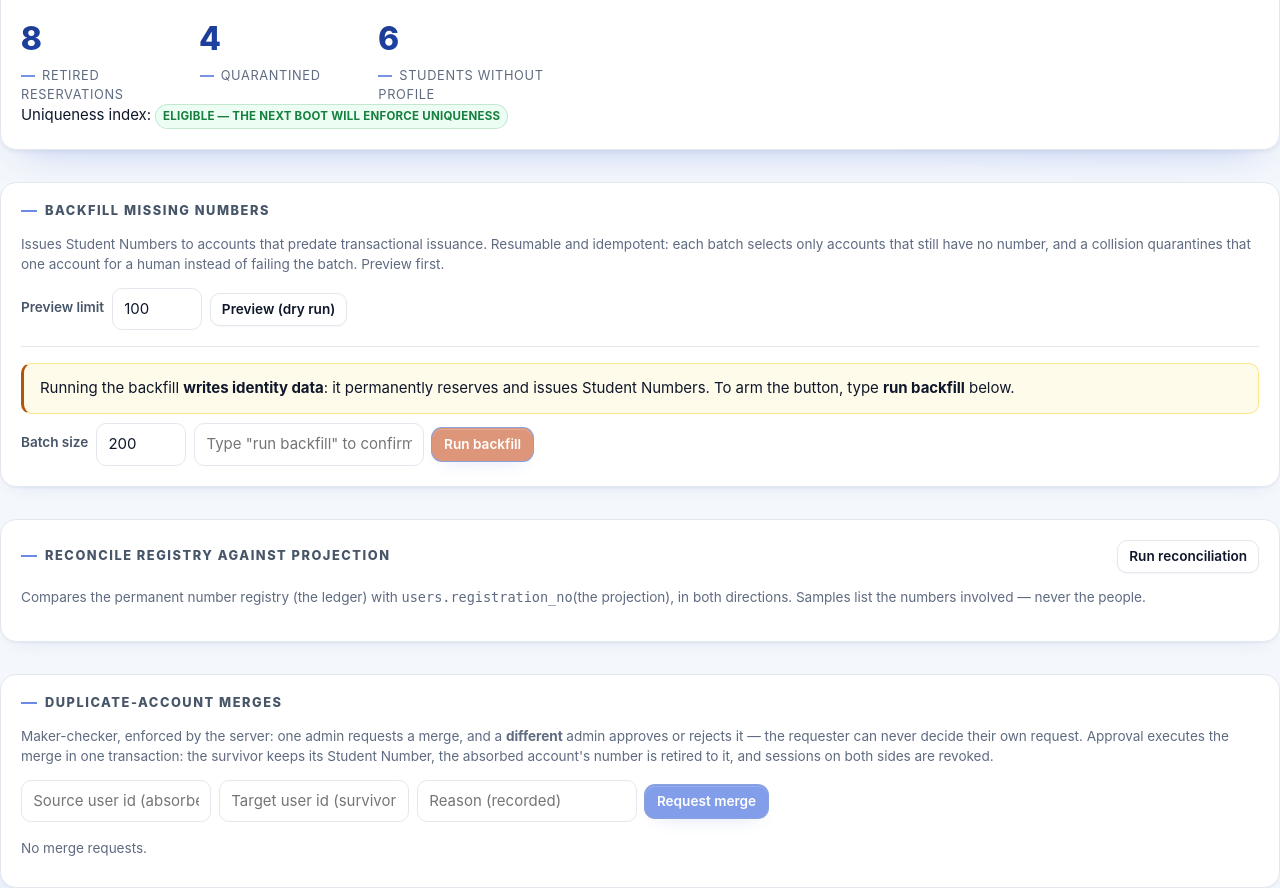
Test: merge queue (maker-checker) › creates a merge request and maps the already_pending refusal to plain language
(page scrolled)
Type "101" into the field labelled "Source user id (absorbed)" at point(116, 801), box [21,780,211,822]
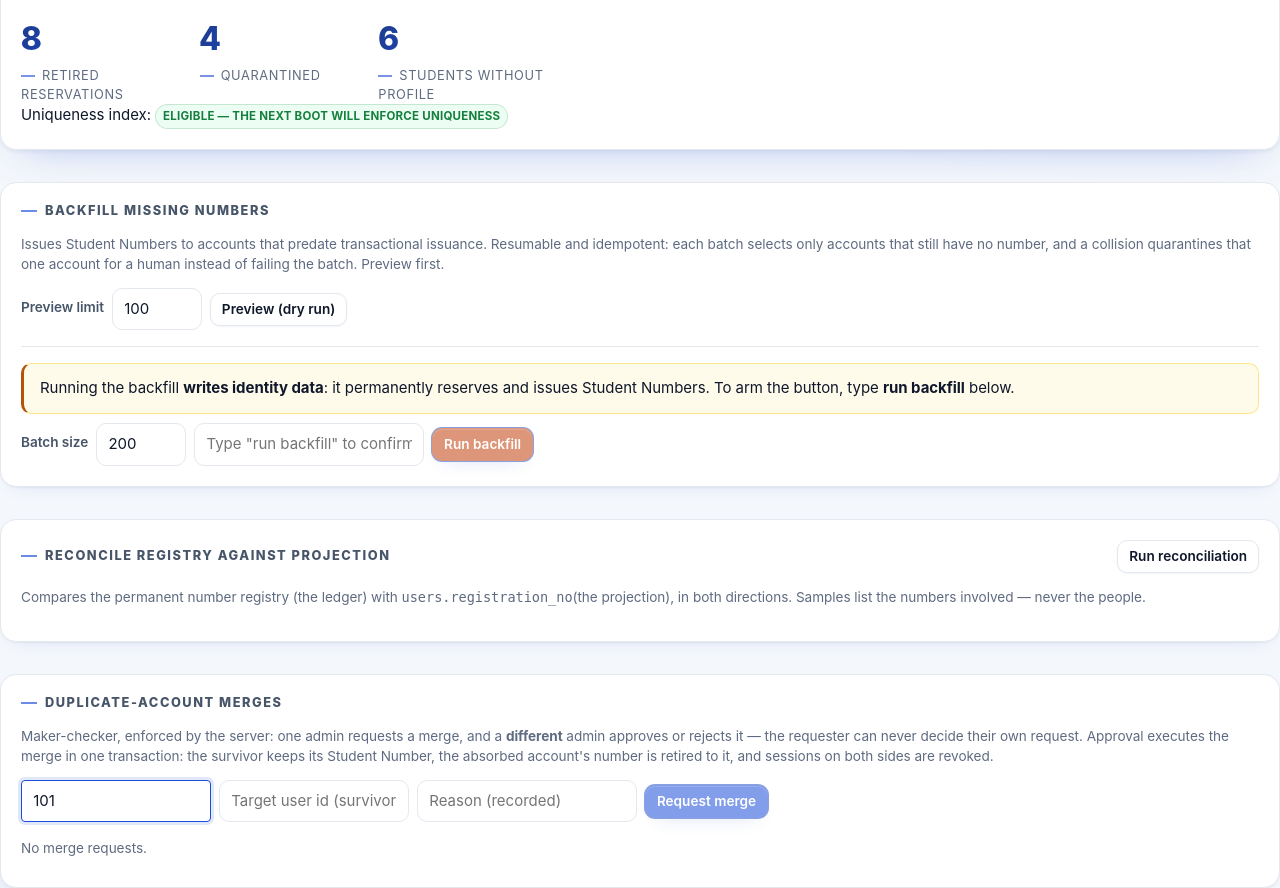
Type "202" into the field labelled "Target user id (survivor)" at point(314, 801), box [219,780,409,822]
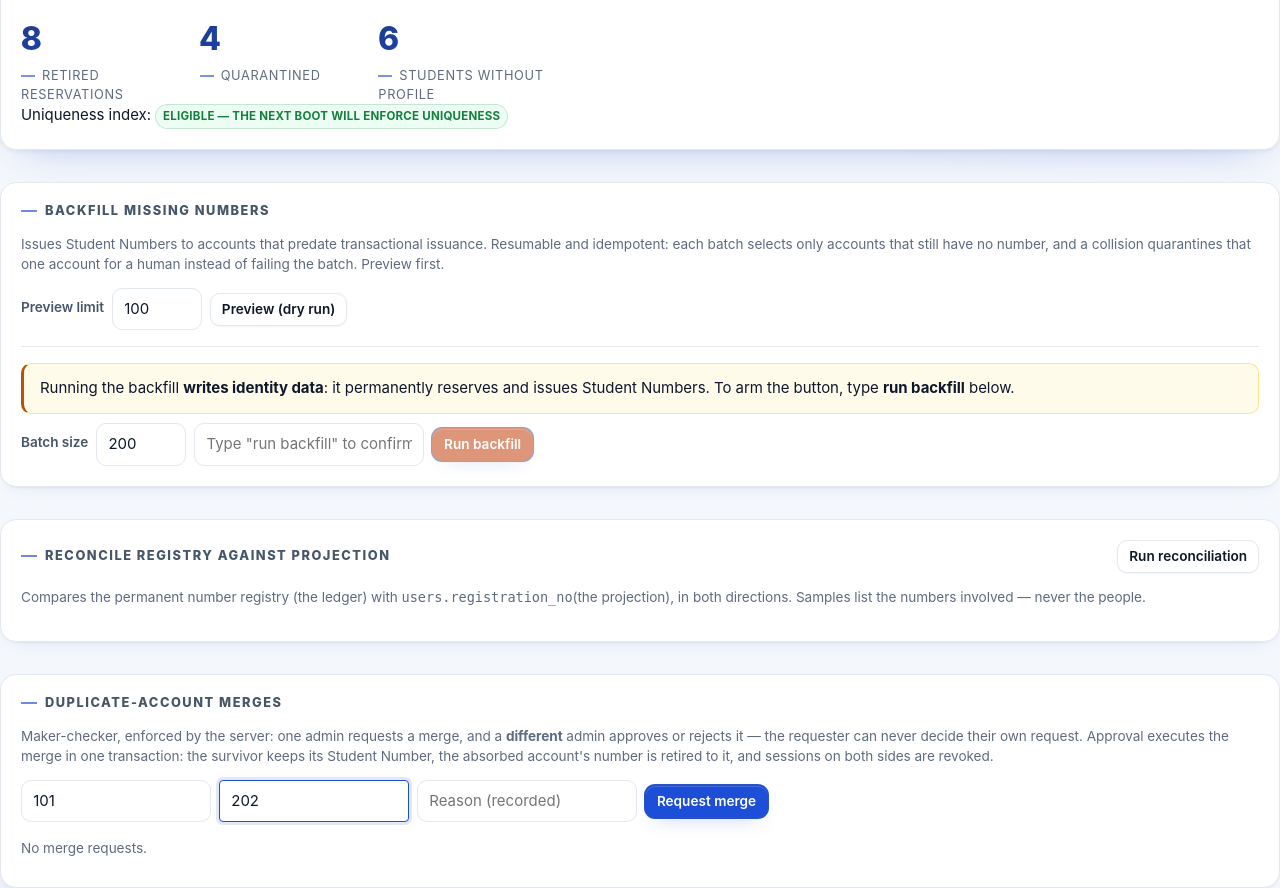
Click the button "Request merge" at point(706, 801), box [645,785,768,818]
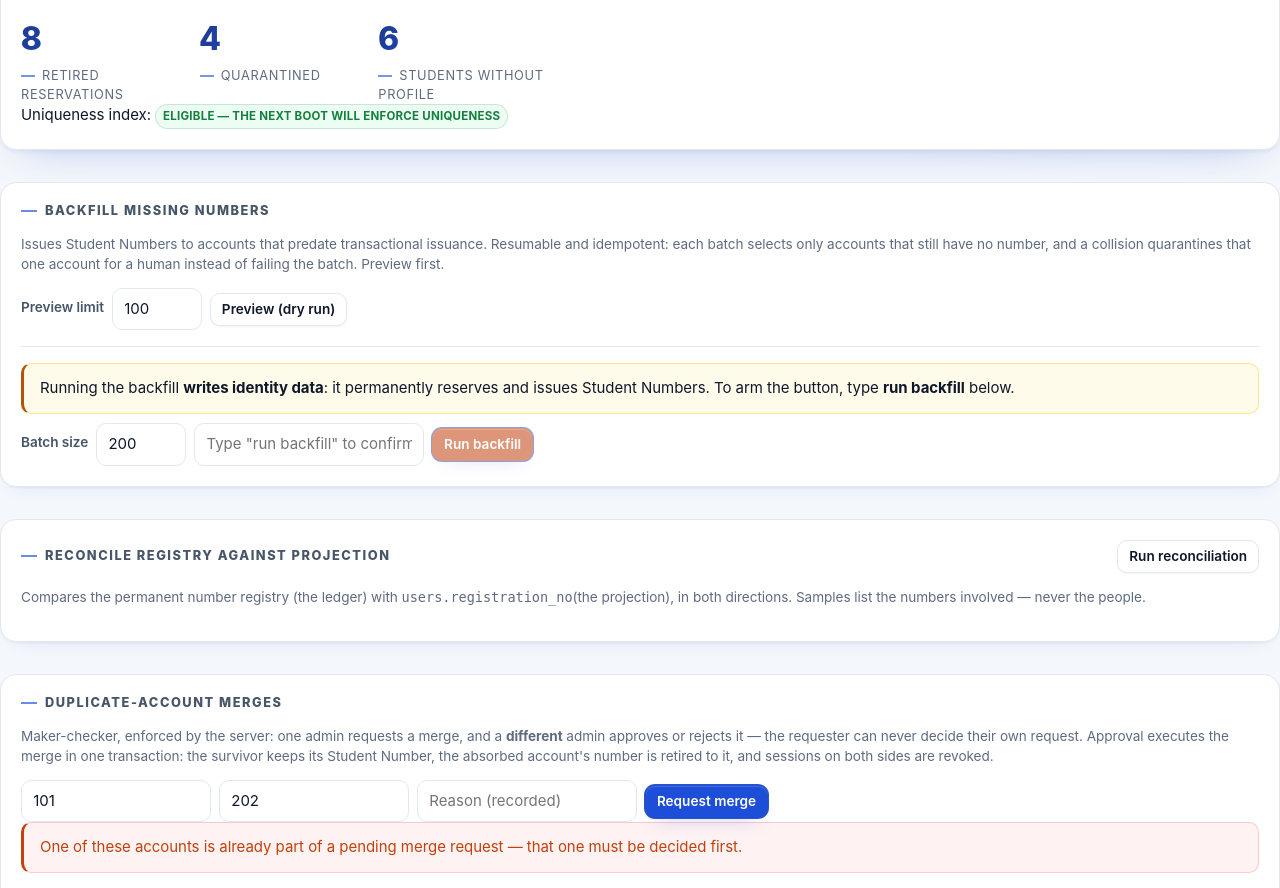
Check: the text "already part of a pending merge request" is shown, box [40,837,742,856]
